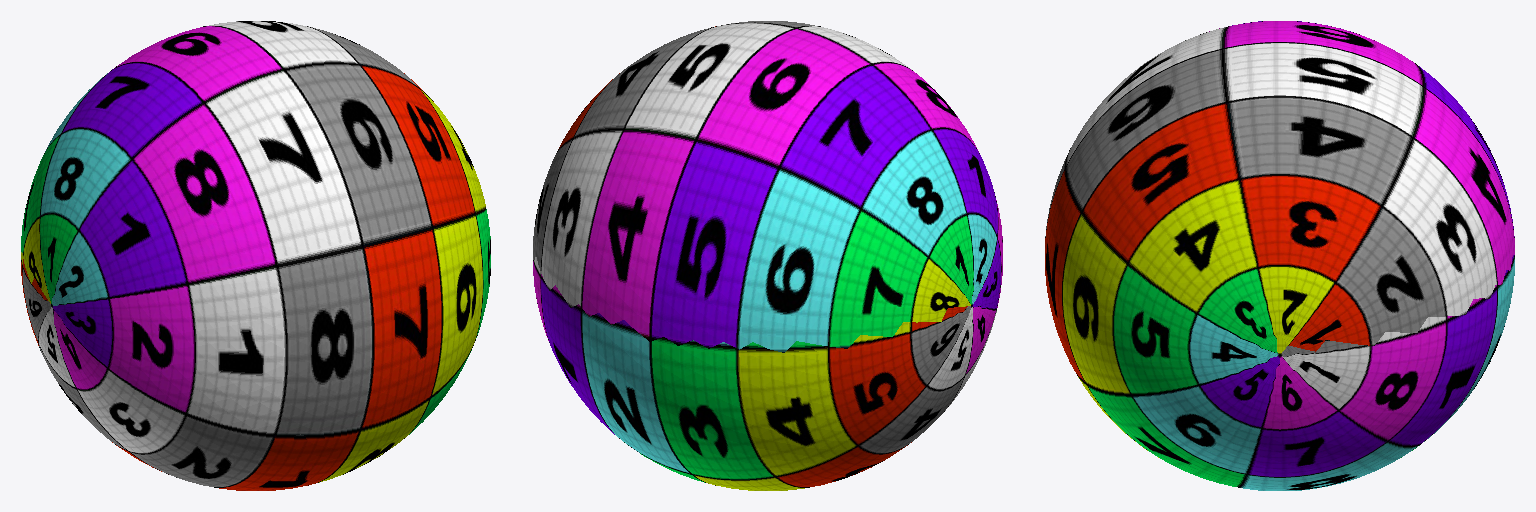
3 renders of one model, left to right at view 1: azimuth 30°, elevation 25°; view 2: azimuth 150°, elevation 25°; view 3: azimuth 270°, elevation 25°, orthographic.
Visible parts, largest first — view 1: planet; view 2: planet; view 3: planet.
Boxes of the visible parts, <box> form: planet: <box>21,21,490,490</box>; planet: <box>533,21,1002,490</box>; planet: <box>1045,21,1514,490</box>.
Bounding box in the file's own units: 2 × 2 × 2.
1 materials, 1 textured.